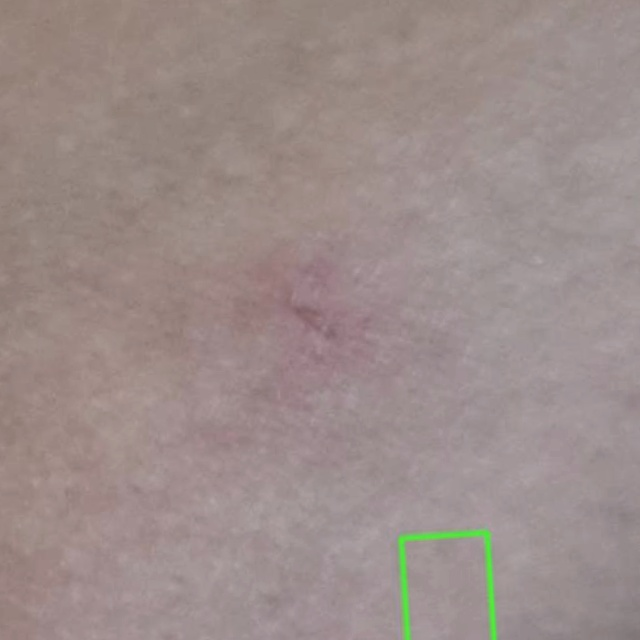Seborrheic Dermatitis: (401, 532, 494, 639)
